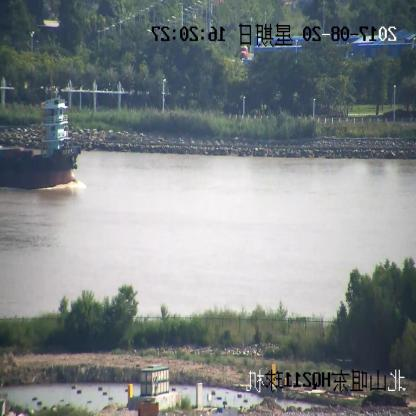Container Ship: (1, 93, 83, 190)
